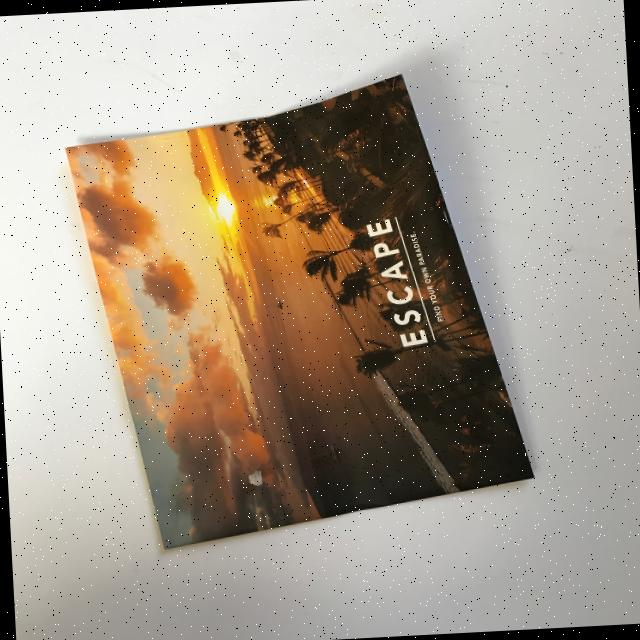paper: (63, 69, 537, 554)
